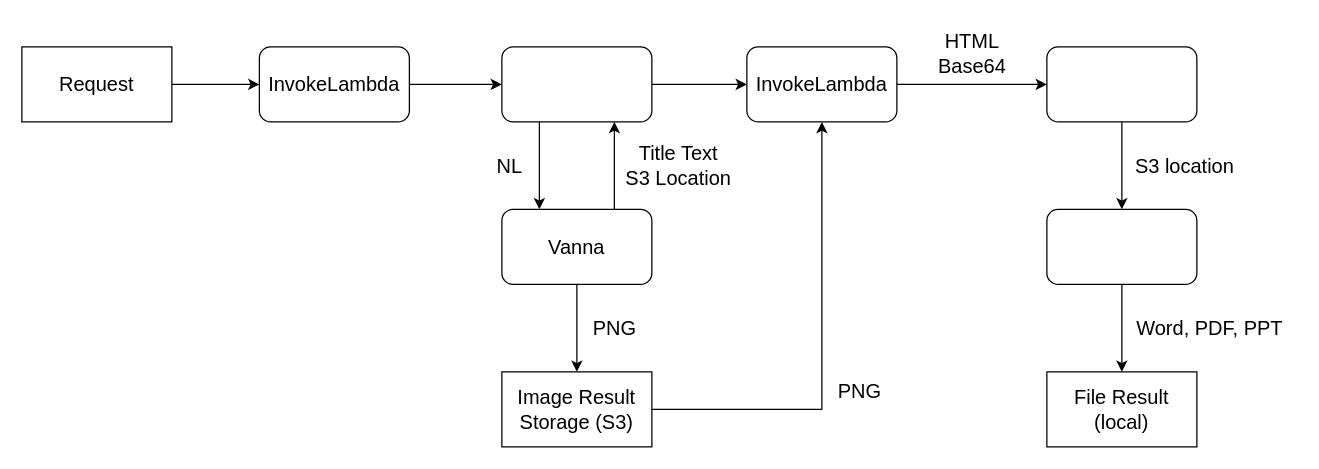
The diagram is 1319 pixels wide and 469 high, and some of its shapes have lost their labels. Each missing label, with the centre of its shape:
"Agent" belongs at (576,84).
"ExportLambda" belongs at (1121,246).
"UI" belongs at (1121,84).
